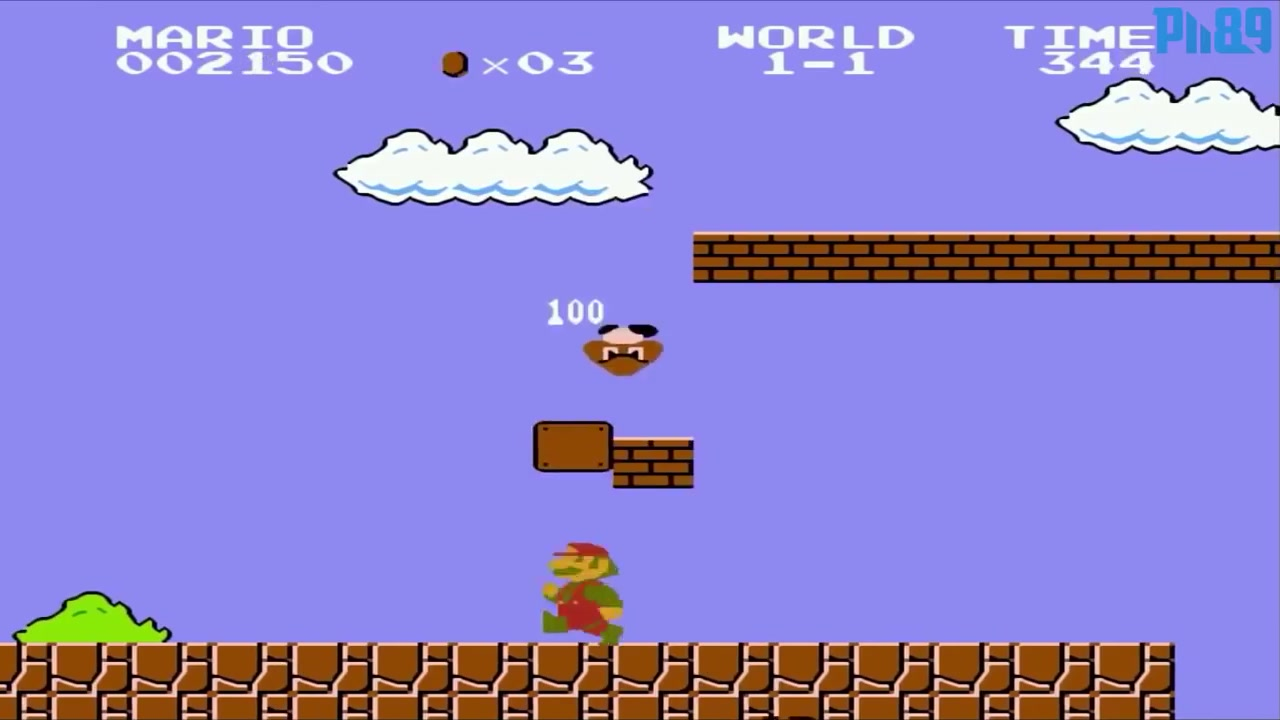mario: (532, 532, 634, 648)
